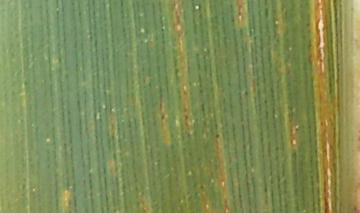tarspot: (160, 112, 166, 123), (182, 114, 190, 122), (243, 90, 250, 99), (214, 133, 221, 140)
